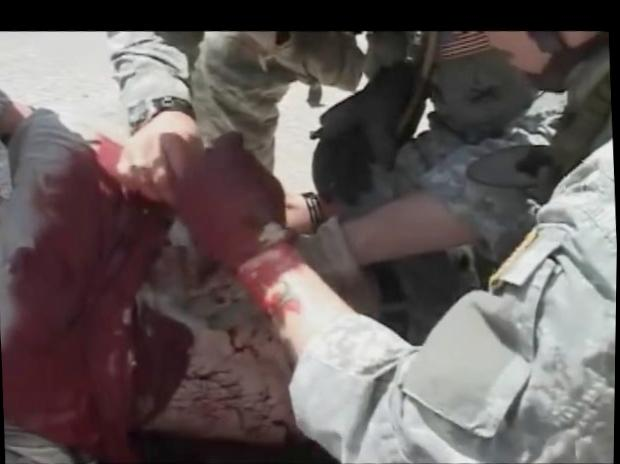Fire: (1, 109, 326, 462)
